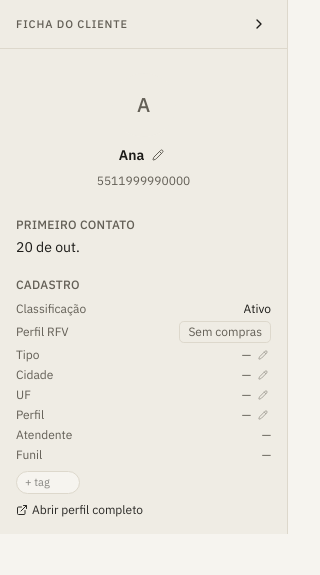
Test: B48-15 — Ajuda onde falta explicação › CA-B48-41: should barrar o espaço também na tag do painel do contato no Chat
Type "cliente vip" into the field named "Nova tag" at (48,482), box [16,471,80,494]
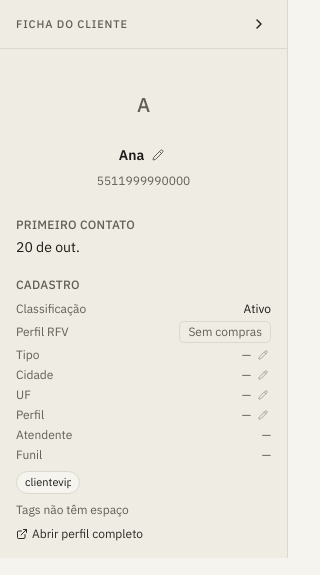
Check: the field named "Nova tag" holds "clientevip", box [16,471,80,494]
Check: the text "Tags não têm espaço" is shown, box [16,502,129,516]
